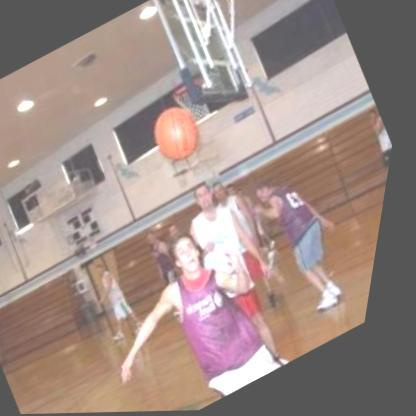basketball: (140, 94, 219, 173)
